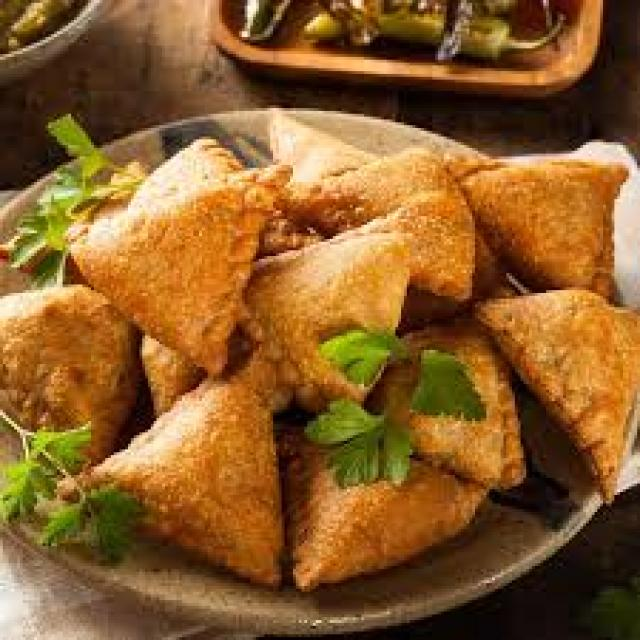SAMOSA: (71, 139, 273, 373), (91, 350, 276, 583), (273, 119, 472, 296), (478, 290, 637, 495), (284, 430, 484, 589), (250, 230, 407, 398), (370, 324, 523, 486), (0, 284, 134, 455), (464, 159, 620, 296)
